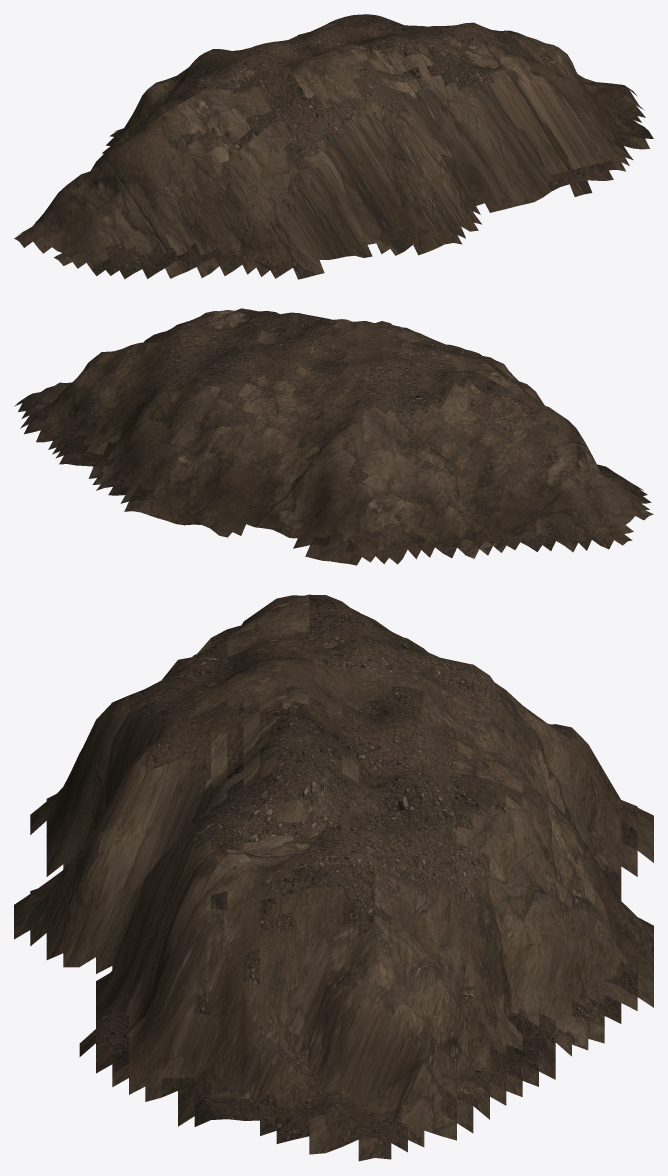
File: border_shelf_c_v5_dead.glb
The picture shows the model from 3 angles, top to bottom: view 1: azimuth 30°, elevation 25°; view 2: azimuth 150°, elevation 25°; view 3: azimuth 270°, elevation 25°; orthographic projection. The views are drawn at different scales.
Visible parts, largest first — view 1: border_shelf_c; view 2: border_shelf_c; view 3: border_shelf_c.
Part boxes in pixels (x1,y1,x2,y2): border_shelf_c: [14, 14, 653, 279]; border_shelf_c: [14, 308, 653, 565]; border_shelf_c: [14, 594, 653, 1161].
Size of the model in its own units: 1.06 by 0.2282 by 0.5909.
2 materials, 2 textured.
